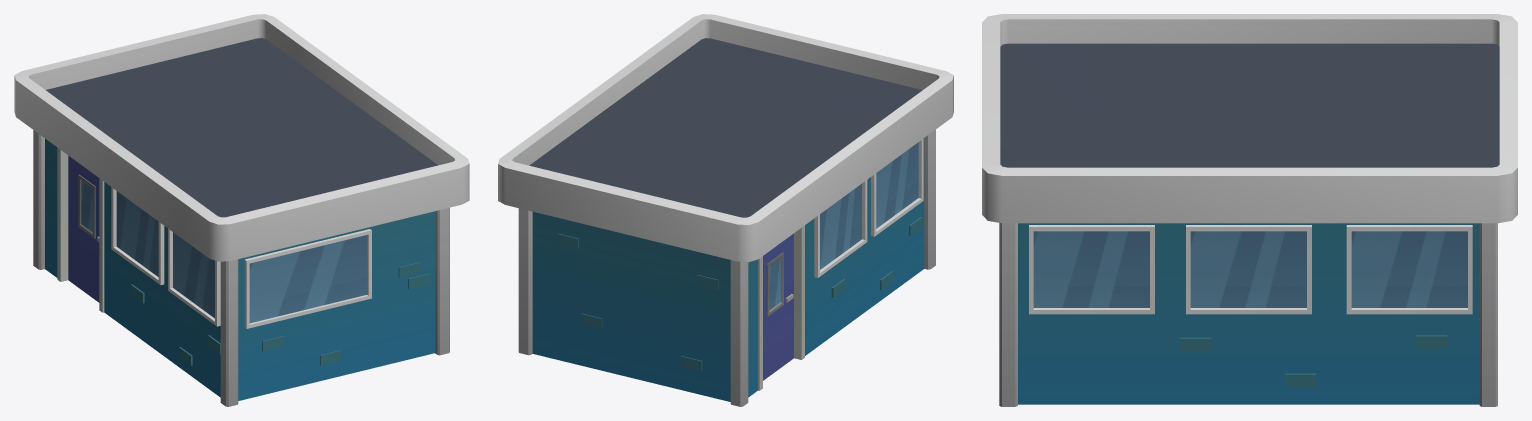
Rendered from Building_13_D.fbx.
The picture shows the model from 3 angles, left to right: view 1: azimuth 30°, elevation 25°; view 2: azimuth 150°, elevation 25°; view 3: azimuth 270°, elevation 25°; orthographic projection. The views are drawn at different scales.
Visible parts, largest first — view 1: Building_13_D; view 2: Building_13_D; view 3: Building_13_D.
Part boxes in pixels (x1=…): Building_13_D: x1=14, y1=14, x2=469, y2=406; Building_13_D: x1=498, y1=14, x2=953, y2=406; Building_13_D: x1=982, y1=14, x2=1517, y2=406.
Size of the model in its own units: 392 by 276 by 549.
